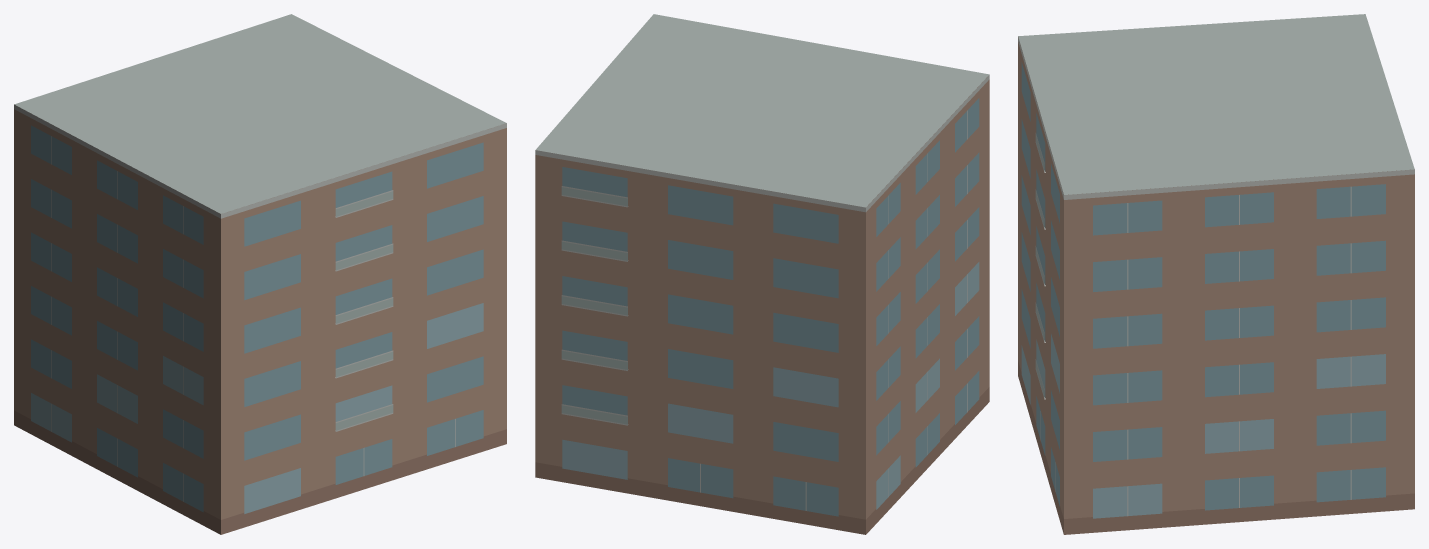
File: survey-upis-32968858.glb
3 renders of one model, left to right at view 1: azimuth 30°, elevation 25°; view 2: azimuth 150°, elevation 25°; view 3: azimuth 270°, elevation 25°, orthographic. The views are drawn at different scales.
Parts seen in each view (by area): view 1: survey-upis-32968858.tmp; view 2: survey-upis-32968858.tmp; view 3: survey-upis-32968858.tmp.
Boxes of the visible parts, left/top/right/bottom form: survey-upis-32968858.tmp: left=14, top=14, right=506, bottom=534; survey-upis-32968858.tmp: left=535, top=14, right=989, bottom=534; survey-upis-32968858.tmp: left=1018, top=14, right=1414, bottom=534.
Size of the model in its own units: 18.98 by 16.6 by 17.58.
